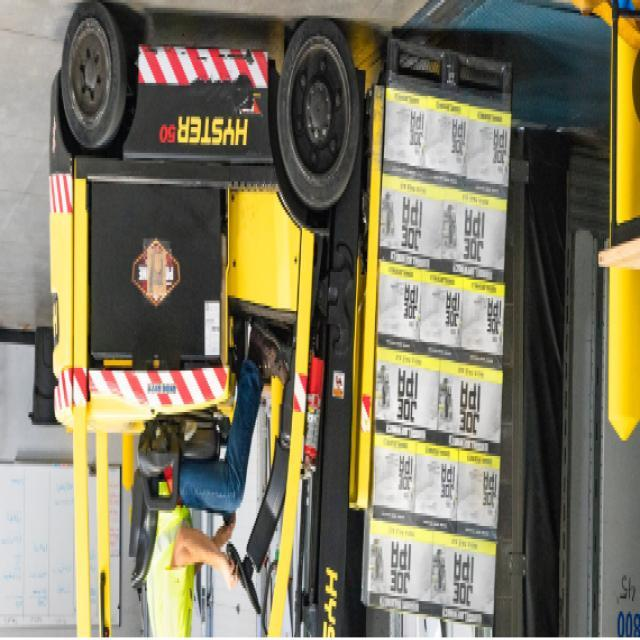shoes: (242, 312, 290, 393)
vest: (144, 476, 196, 638)
